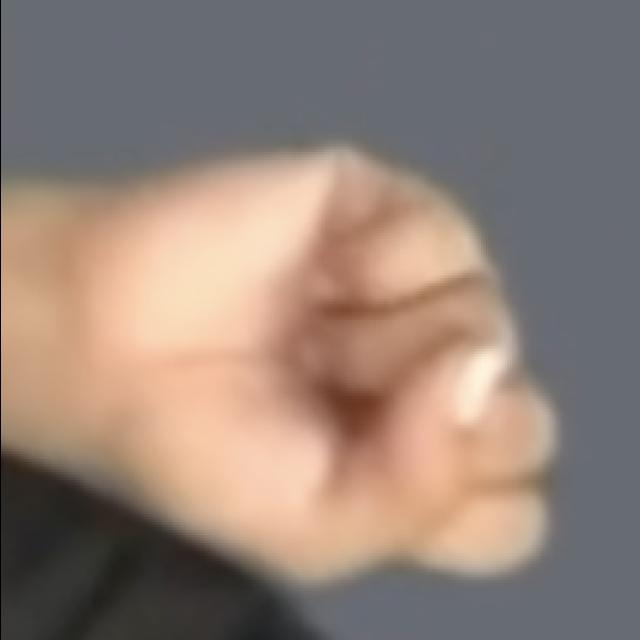S: (45, 132, 567, 612)
